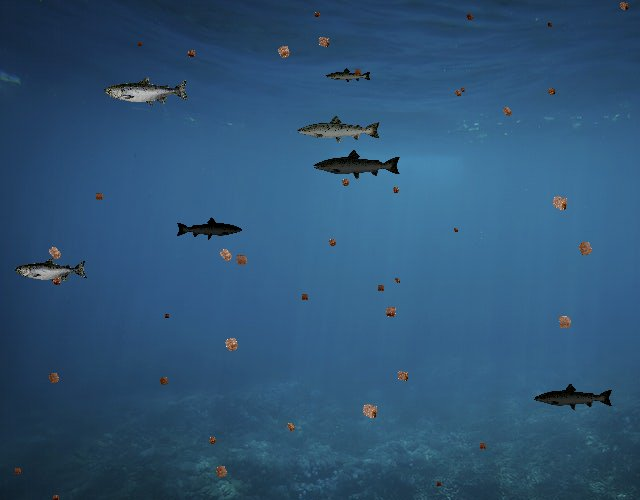Fish: (313, 148, 403, 181), (296, 114, 382, 145), (104, 76, 190, 107), (534, 382, 615, 411), (15, 258, 88, 284), (176, 216, 244, 241), (326, 67, 373, 84)
Pellet: (312, 31, 335, 54), (497, 101, 517, 121), (183, 45, 200, 62), (373, 281, 388, 295), (458, 84, 468, 94)
